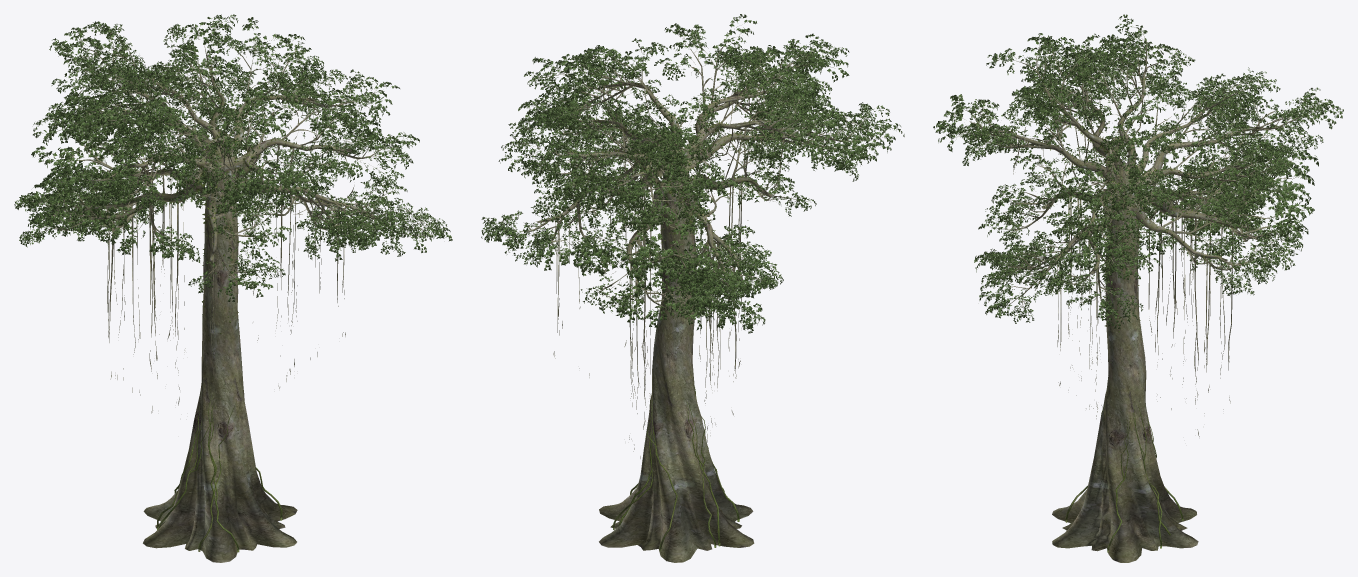
The model's file is kapok_ceiba_lite.glb.
The picture shows the model from 3 angles, left to right: view 1: azimuth 30°, elevation 25°; view 2: azimuth 150°, elevation 25°; view 3: azimuth 270°, elevation 25°; orthographic projection. The views are drawn at different scales.
Visible parts, largest first — view 1: Kapok_High_KapokLeaf 1_0, Kapok_High_KapokBark_0, Kapok_High_KapokBranch_0; view 2: Kapok_High_KapokLeaf 1_0, Kapok_High_KapokBark_0, Kapok_High_KapokBranch_0; view 3: Kapok_High_KapokLeaf 1_0, Kapok_High_KapokBark_0, Kapok_High_KapokBranch_0.
Part boxes in pixels (x1,y1,x2,y2): Kapok_High_KapokLeaf 1_0: (14,14,452,301); Kapok_High_KapokBark_0: (23,21,433,562); Kapok_High_KapokBranch_0: (95,69,350,552); Kapok_High_KapokLeaf 1_0: (481,14,904,333); Kapok_High_KapokBark_0: (489,26,884,562); Kapok_High_KapokBranch_0: (541,80,808,550); Kapok_High_KapokLeaf 1_0: (933,14,1343,328); Kapok_High_KapokBark_0: (945,26,1335,562); Kapok_High_KapokBranch_0: (1010,71,1256,552).
Bounding box in the file's own units: 77.22 × 95.44 × 78.15.
Materials: 4 (4 with a texture image).
